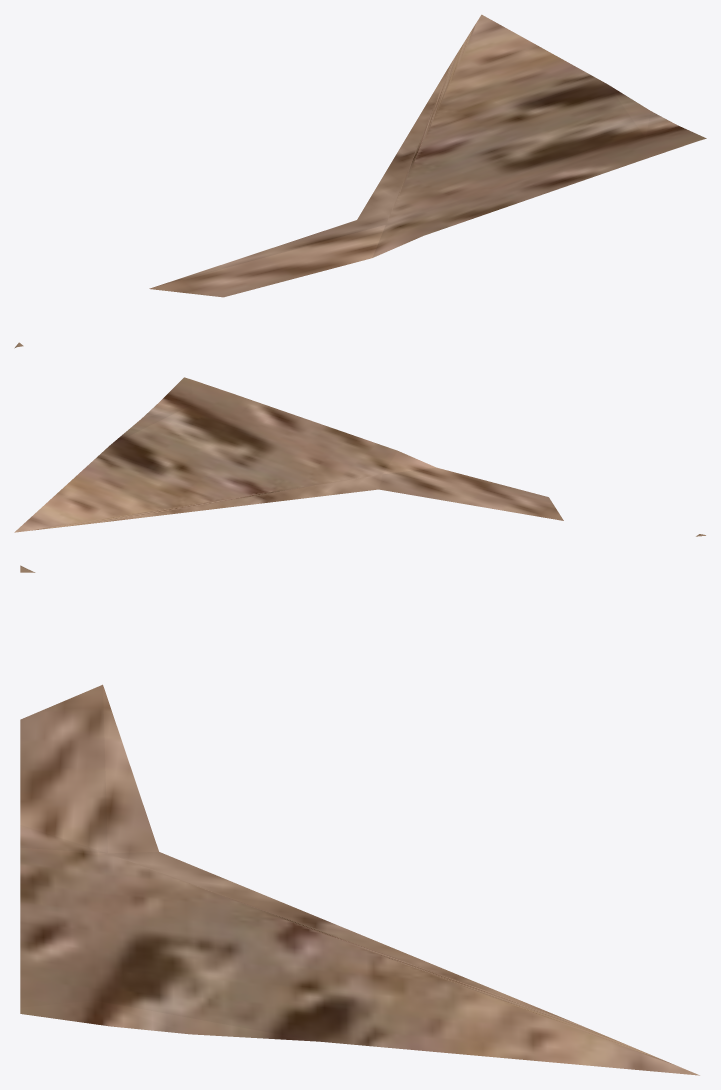
3 views of the same model, one above another, from view 1: azimuth 30°, elevation 25°; view 2: azimuth 150°, elevation 25°; view 3: azimuth 270°, elevation 25° (orthographic). The views are drawn at different scales.
Bounding box in the file's own units: 0.6431 × 0.0363 × 0.3624.
1 material, 1 textured.
